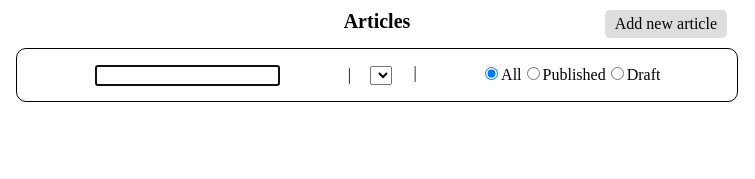
Test: App component › filters the articles
The width and height of the screenshot is (755, 179).
Click the radio button labelled "Published" at (533, 74), box [526,67,540,80]
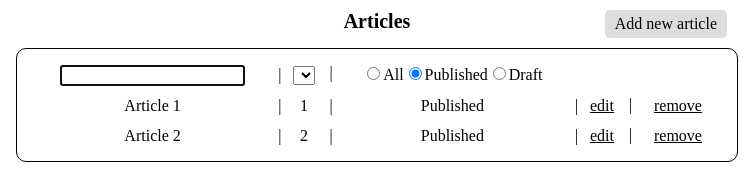
expect the text "Article 1" is shown 2 times: met, box [124,97,181,114]; [124,127,181,144]
